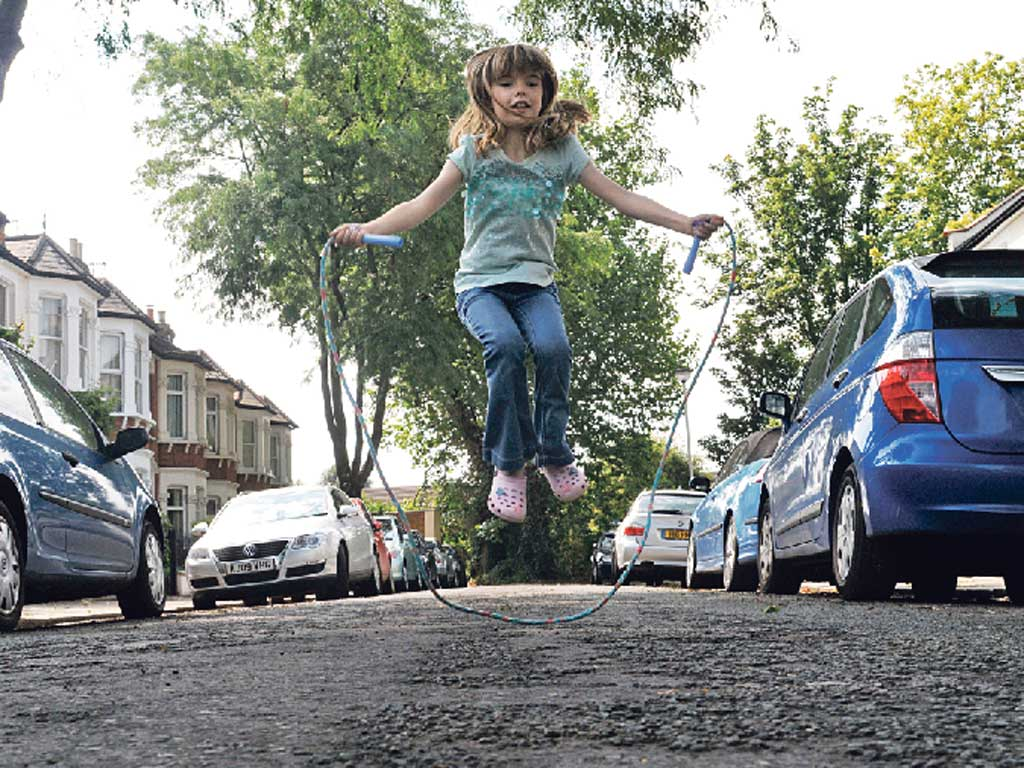Car: (754, 263, 1024, 604), (5, 328, 188, 665), (174, 478, 389, 620)
Person: (322, 43, 731, 535)
